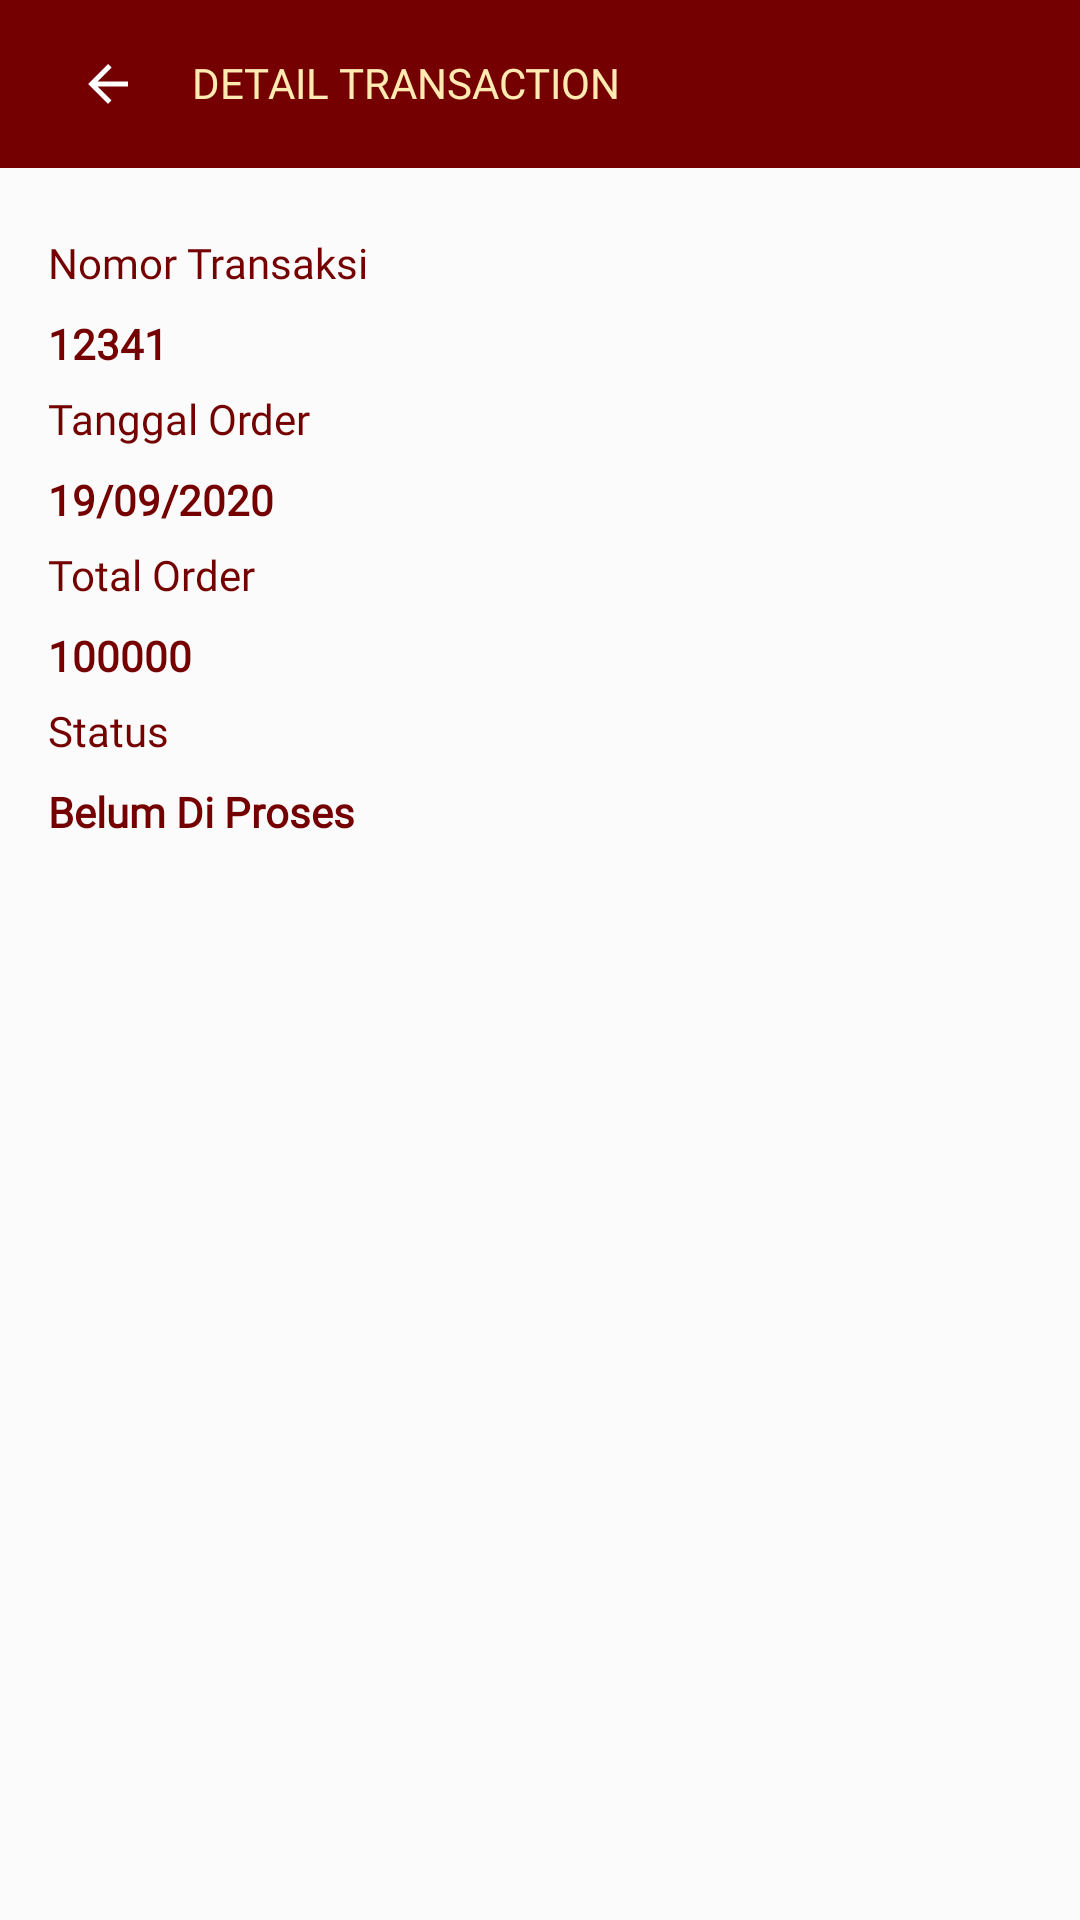

Screen size 1080px x 1920px. Icon name, then its center in pixels as [x,y]:
back: [108,84]
